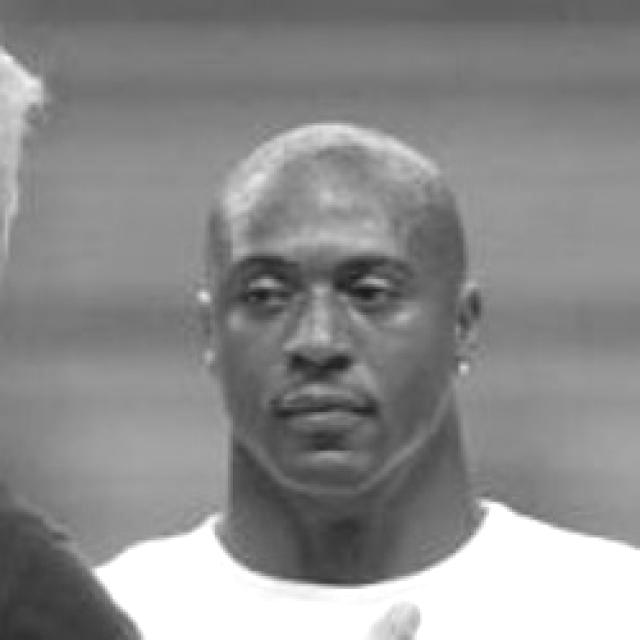real: (198, 134, 500, 522), (238, 267, 420, 321)
